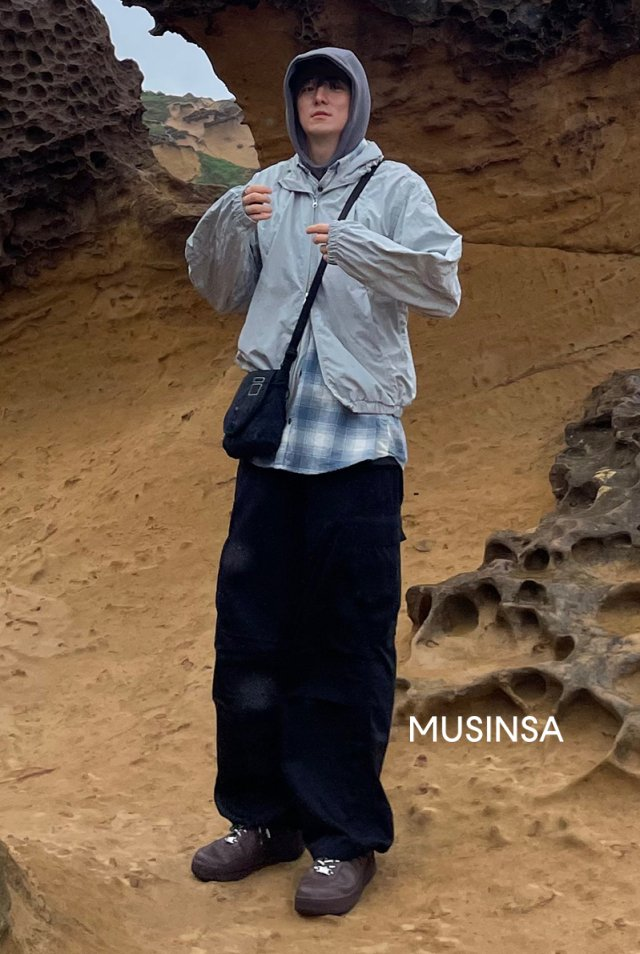Bag: (215, 356, 286, 471)
Hoodie: (279, 48, 375, 163)
Outer: (175, 144, 478, 425)
Pants: (210, 451, 411, 847)
Shoes: (185, 815, 394, 920)
